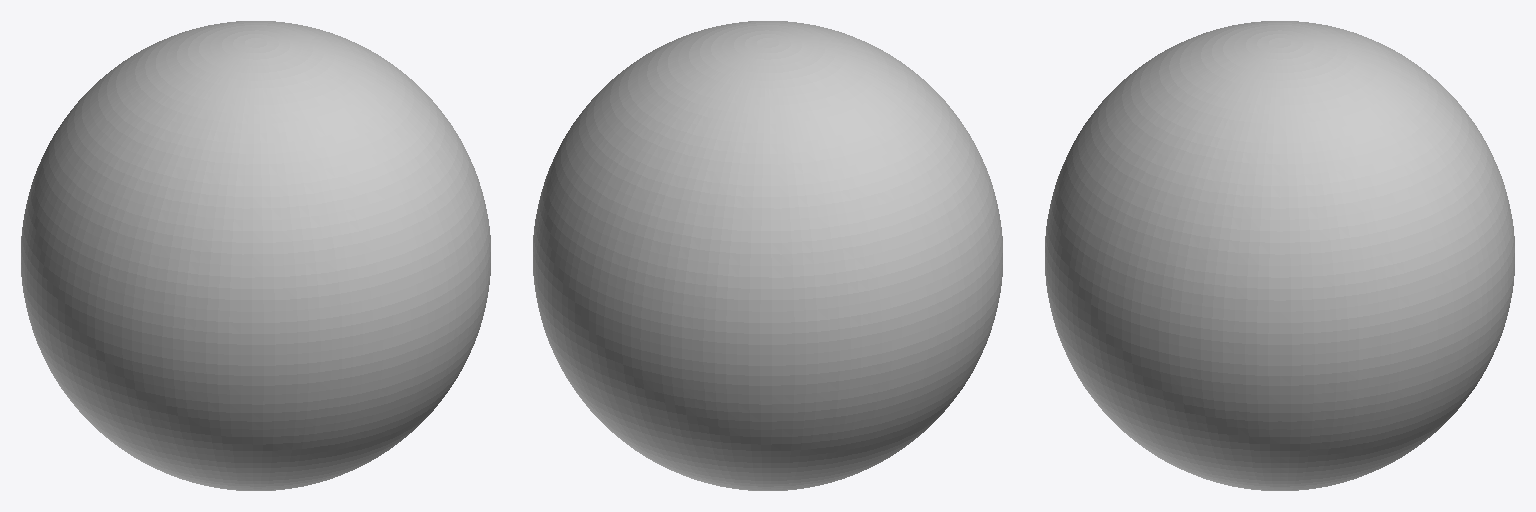
Rendered from force.obj.
3 views of the same model, side by side, from view 1: azimuth 30°, elevation 25°; view 2: azimuth 150°, elevation 25°; view 3: azimuth 270°, elevation 25° (orthographic).
Visible parts, largest first — view 1: Sphere_Sphere.002; view 2: Sphere_Sphere.002; view 3: Sphere_Sphere.002.
Boxes of the visible parts, x1,y1,x2,y2 form: Sphere_Sphere.002: [21, 21, 490, 490]; Sphere_Sphere.002: [533, 21, 1002, 490]; Sphere_Sphere.002: [1045, 21, 1514, 490].
Bounding box in the file's own units: 1 × 1 × 1.